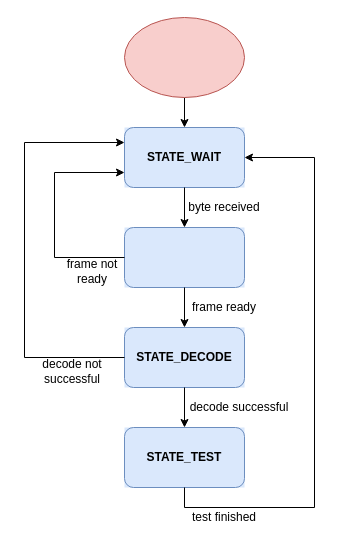
This 340x545 diagram has some shape labels left out. The centre of each missing label's shape, as x and y in pixels:
"Start" belongs at (x=184, y=57).
"STATE_PROCESS" belongs at (x=184, y=257).
